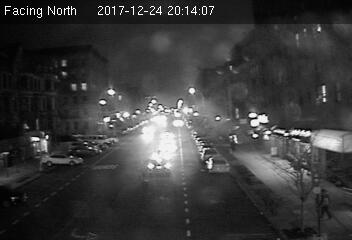car: (143, 155, 174, 176), (206, 157, 229, 173)
